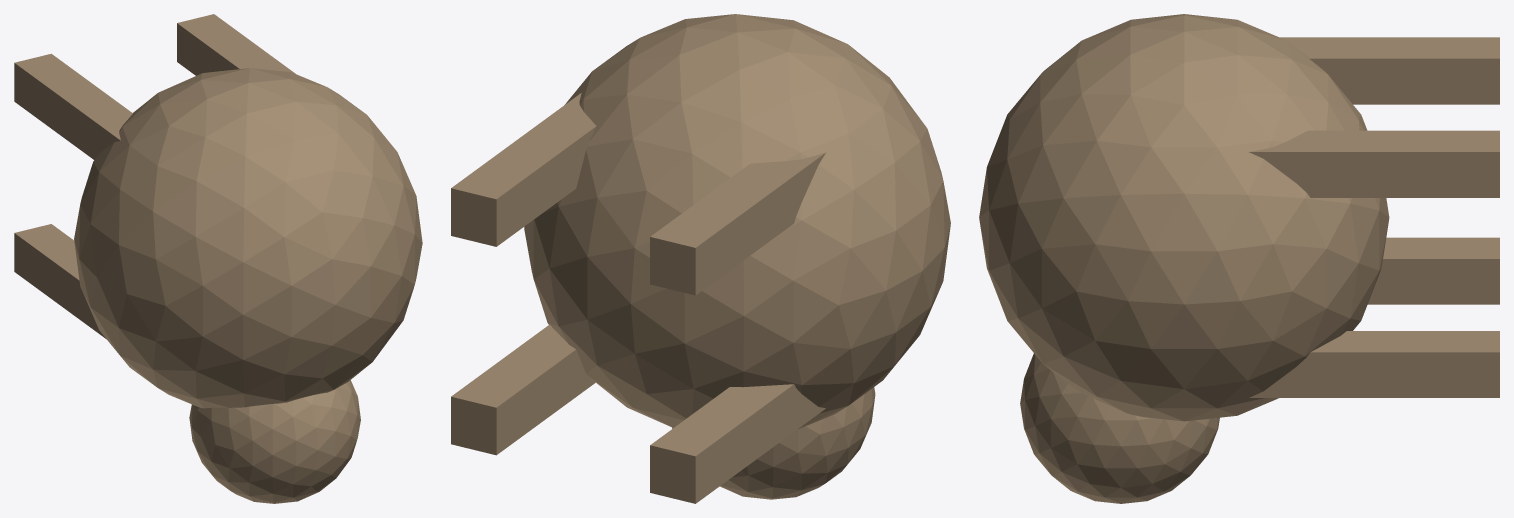
File: deer.glb
3 renders of one model, left to right at view 1: azimuth 30°, elevation 25°; view 2: azimuth 150°, elevation 25°; view 3: azimuth 270°, elevation 25°, orthographic. The views are drawn at different scales.
Visible parts, largest first — view 1: body, head, leg_-0.35_0.35, leg_-0.35_-0.35, leg_0.35_0.35; view 2: body, leg_-0.35_0.35, leg_-0.35_-0.35, leg_0.35_0.35, leg_0.35_-0.35, head; view 3: body, head, leg_0.35_0.35, leg_0.35_-0.35, leg_-0.35_0.35, leg_-0.35_-0.35.
Part boxes in pixels (x1=…): body: x1=74, y1=68, x2=422, y2=408; head: x1=189, y1=380, x2=360, y2=503; leg_-0.35_0.35: x1=14, y1=53, x2=132, y2=159; leg_-0.35_-0.35: x1=14, y1=224, x2=105, y2=338; leg_0.35_0.35: x1=177, y1=14, x2=295, y2=75; body: x1=524, y1=14, x2=950, y2=429; leg_-0.35_0.35: x1=650, y1=152, x2=825, y2=295; leg_-0.35_-0.35: x1=650, y1=384, x2=825, y2=503; leg_0.35_0.35: x1=451, y1=93, x2=596, y2=246; leg_0.35_-0.35: x1=451, y1=324, x2=595, y2=455; head: x1=672, y1=387, x2=875, y2=499; body: x1=979, y1=14, x2=1389, y2=421; head: x1=1020, y1=353, x2=1219, y2=503; leg_0.35_0.35: x1=1249, y1=130, x2=1499, y2=197; leg_0.35_-0.35: x1=1249, y1=331, x2=1499, y2=397; leg_-0.35_0.35: x1=1280, y1=37, x2=1499, y2=104; leg_-0.35_-0.35: x1=1367, y1=237, x2=1499, y2=304.
Size of the model in its own units: 1.3 by 1.62 by 1.65.
